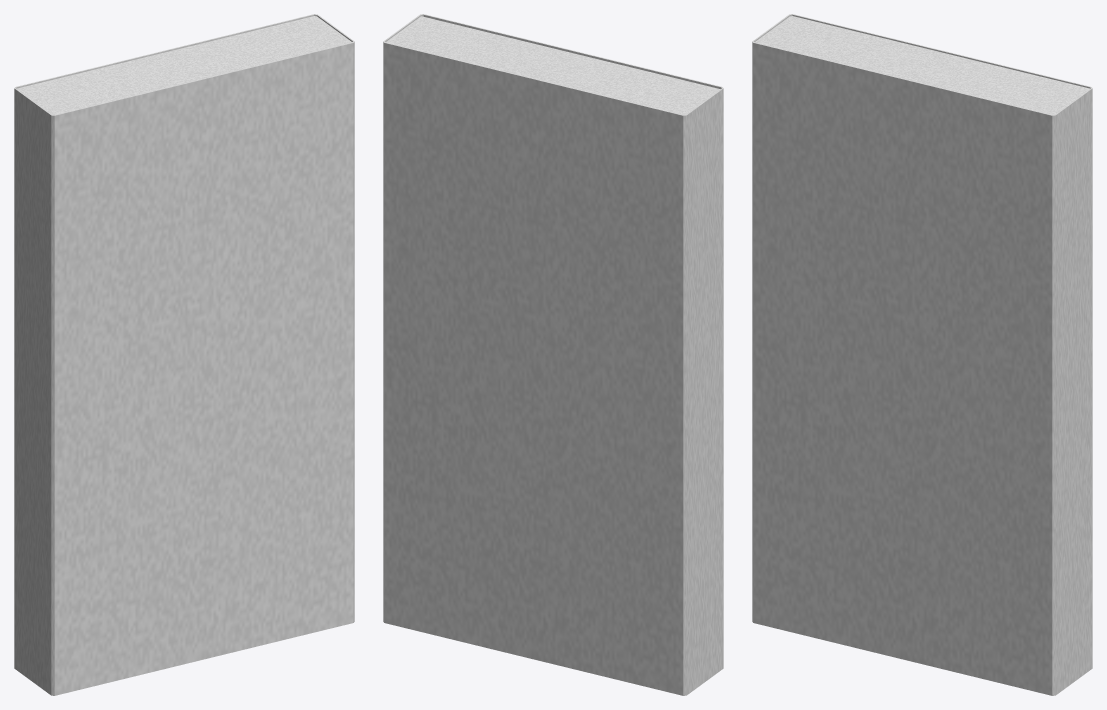
File: cleaner-carton.glb
3 views of the same model, side by side, from view 1: azimuth 30°, elevation 25°; view 2: azimuth 150°, elevation 25°; view 3: azimuth 330°, elevation 25° (orthographic).
Visible parts, largest first — view 1: Sleeve_with_scored_spines, Top_folded_tuck_closure; view 2: Sleeve_with_scored_spines, Top_folded_tuck_closure; view 3: Sleeve_with_scored_spines, Top_folded_tuck_closure.
Boxes of the visible parts, bbox=[...] form: Sleeve_with_scored_spines: bbox=[14, 14, 354, 695]; Top_folded_tuck_closure: bbox=[17, 16, 351, 114]; Sleeve_with_scored_spines: bbox=[383, 14, 723, 695]; Top_folded_tuck_closure: bbox=[386, 16, 720, 114]; Sleeve_with_scored_spines: bbox=[752, 14, 1092, 695]; Top_folded_tuck_closure: bbox=[755, 16, 1089, 114].
Bounding box in the file's own units: 0.365 × 0.667 × 0.082.
4 materials, 4 textured.
